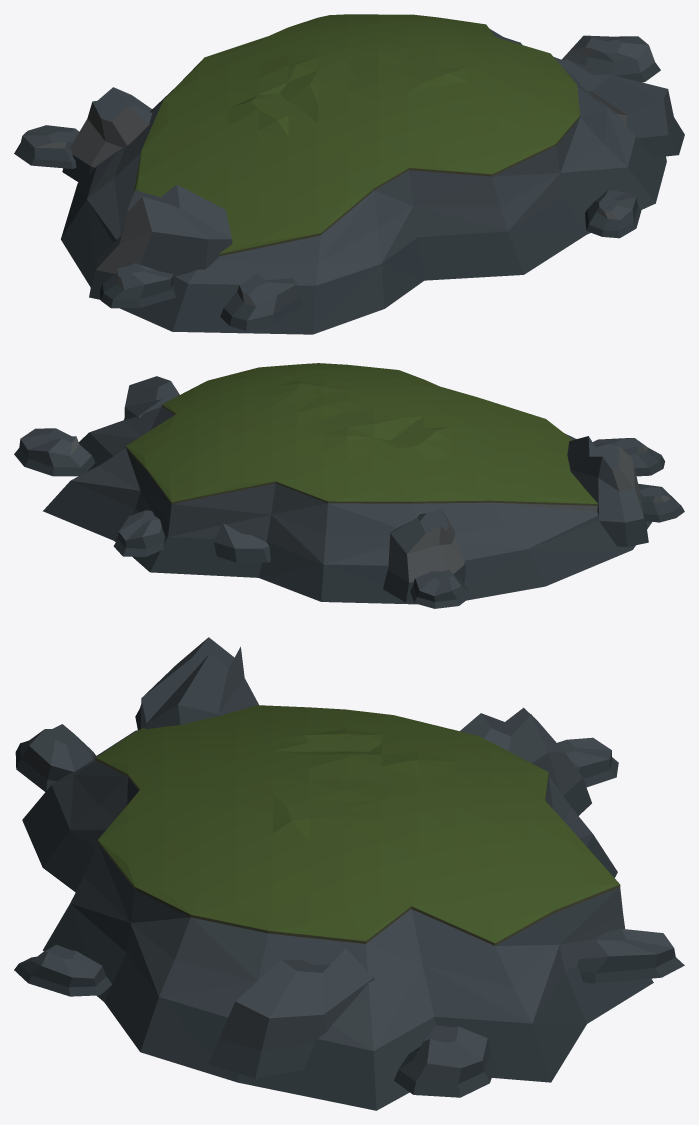
Rendered from island_a.glb.
The picture shows the model from 3 angles, top to bottom: view 1: azimuth 30°, elevation 25°; view 2: azimuth 150°, elevation 25°; view 3: azimuth 270°, elevation 25°; orthographic projection. The views are drawn at different scales.
Visible parts, largest first — view 1: island_a_Coast blue grey bedrock, island_a_Coast short olive grass; view 2: island_a_Coast blue grey bedrock, island_a_Coast short olive grass; view 3: island_a_Coast blue grey bedrock, island_a_Coast short olive grass.
Part boxes in pixels (x1,y1,x2,y2): island_a_Coast blue grey bedrock: (14,29,684,334); island_a_Coast short olive grass: (133,14,580,256); island_a_Coast blue grey bedrock: (14,376,684,608); island_a_Coast short olive grass: (126,363,597,505); island_a_Coast blue grey bedrock: (14,637,684,1110); island_a_Coast short olive grass: (95,705,620,945).
Bounding box in the file's own units: 199 × 34.88 × 144.
